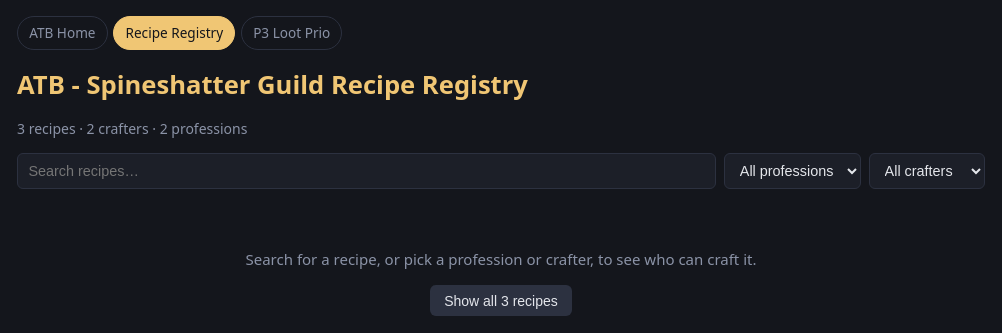
Test case: App › shows an empty state when nothing matches
In the search field labelled "Search recipes": (367, 171) x1=17 y1=153 x2=716 y2=189, type "zzzzz"
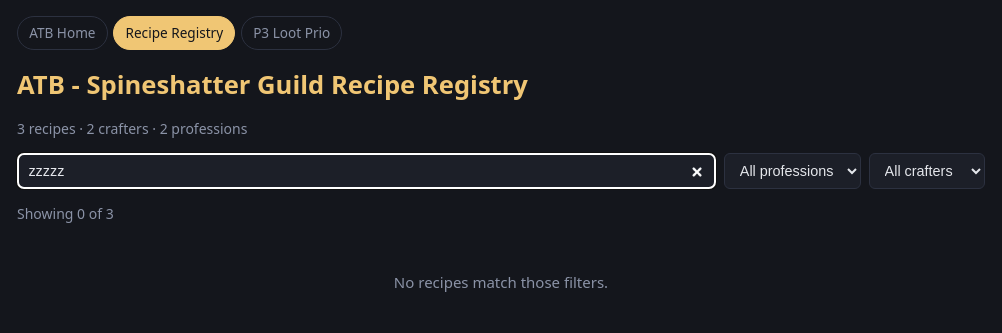
Now the text "No recipes match those filters." is shown, box x1=394 y1=272 x2=608 y2=292
